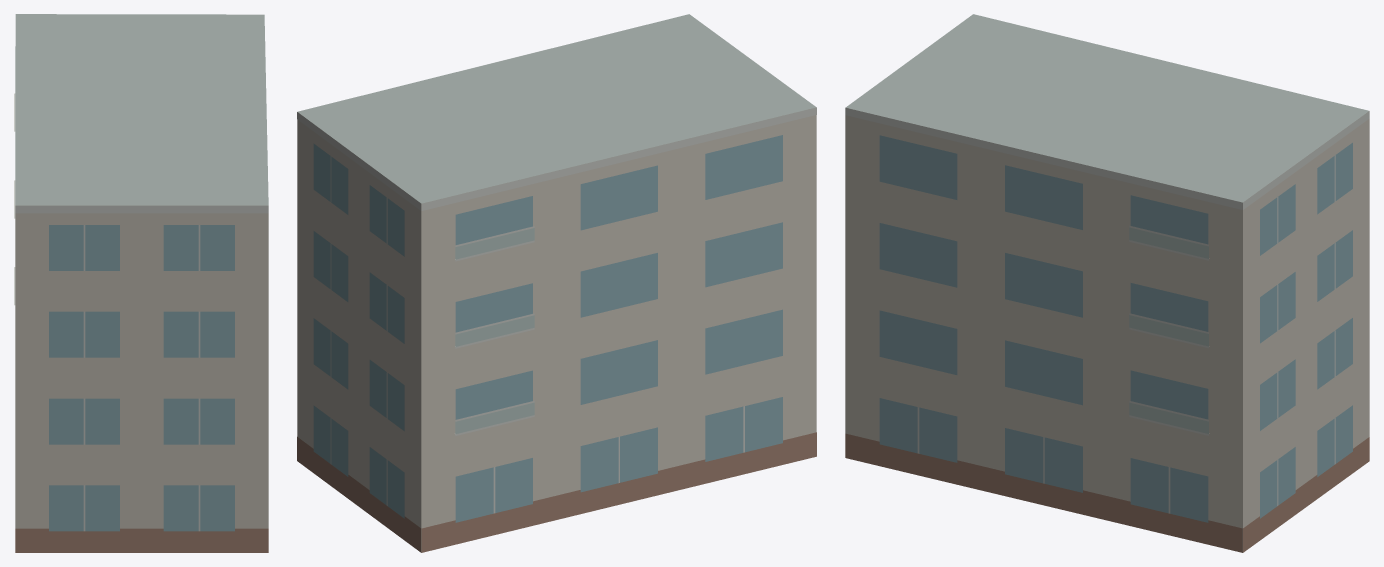
File: survey-upis-32722128.glb
The picture shows the model from 3 angles, left to right: view 1: azimuth 30°, elevation 25°; view 2: azimuth 150°, elevation 25°; view 3: azimuth 270°, elevation 25°; orthographic projection.
Parts seen in each view (by area): view 1: survey-upis-32722128.tmp; view 2: survey-upis-32722128.tmp; view 3: survey-upis-32722128.tmp.
Boxes of the visible parts, x1=… form: survey-upis-32722128.tmp: x1=14, y1=14, x2=268, y2=552; survey-upis-32722128.tmp: x1=297, y1=14, x2=816, y2=552; survey-upis-32722128.tmp: x1=845, y1=14, x2=1369, y2=552.
Size of the model in its own units: 13.05 by 11.3 by 15.33.
